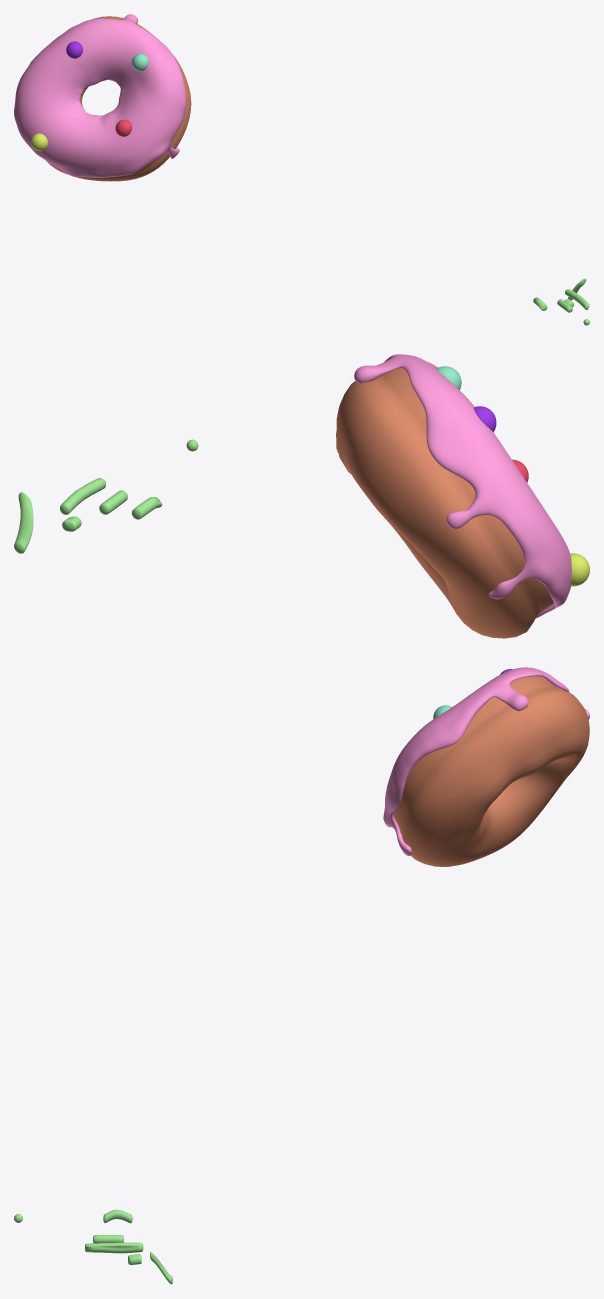
File: Donut.fbx
The picture shows the model from 3 angles, top to bottom: view 1: azimuth 30°, elevation 25°; view 2: azimuth 150°, elevation 25°; view 3: azimuth 270°, elevation 25°; orthographic projection. The views are drawn at different scales.
Parts seen in each view (by area): view 1: Icing, Donut; view 2: Donut, Icing, Sprinkle.004, Sprinkle.001, Sphere.004, Sprinkle.003, Sprinkle; view 3: Donut, Icing.
Part boxes in pixels (x1,y1,x2,y2): Icing: (14, 14, 186, 177); Donut: (46, 16, 191, 181); Donut: (336, 368, 553, 638); Icing: (354, 354, 571, 618); Sprinkle.004: (14, 492, 33, 553); Sprinkle.001: (60, 478, 105, 514); Sphere.004: (570, 553, 589, 586); Sprinkle.003: (131, 497, 162, 519); Sprinkle: (99, 490, 127, 514); Donut: (393, 676, 589, 866); Icing: (383, 667, 589, 856).
Bounding box in the file's own units: 221 × 134 × 184.
